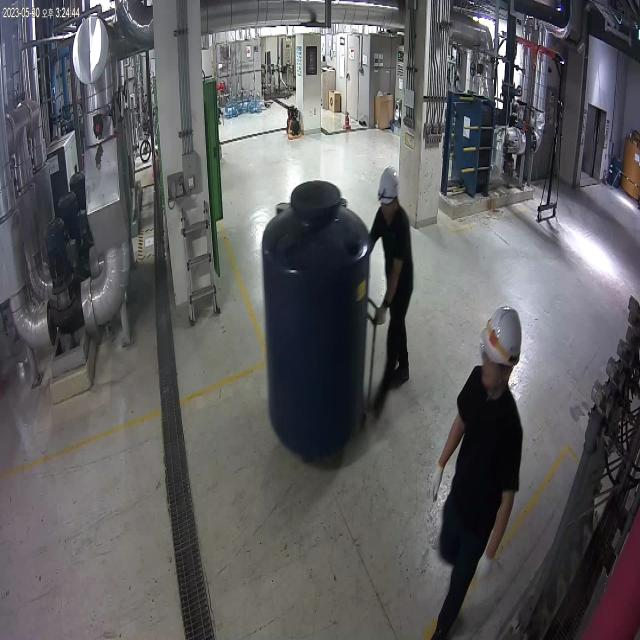Water Tank: (252, 173, 378, 470)
worker: (423, 291, 536, 640), (365, 156, 423, 419)
